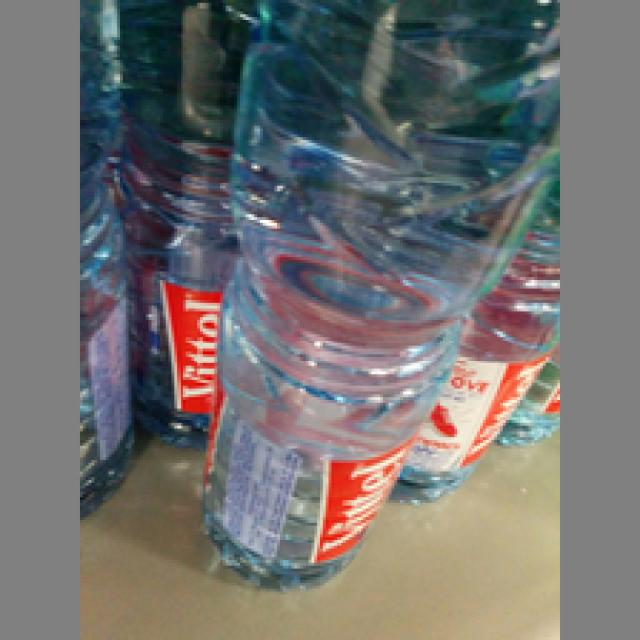groceries: (194, 0, 551, 591)
